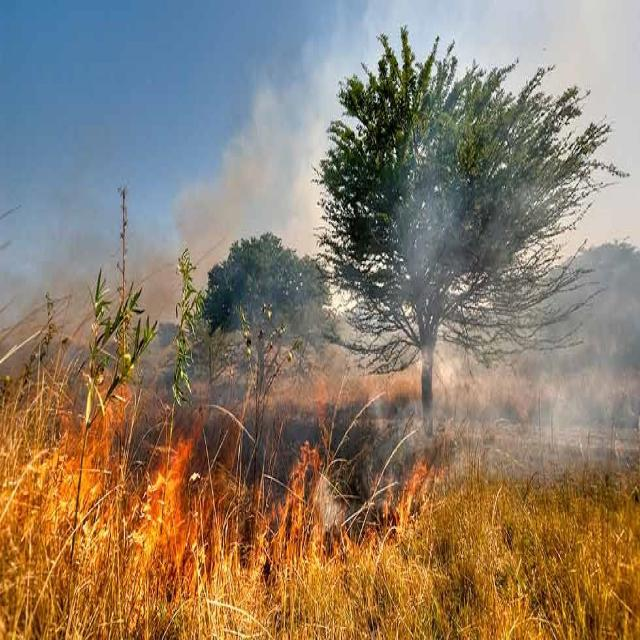Smoke: (408, 310, 614, 451)
